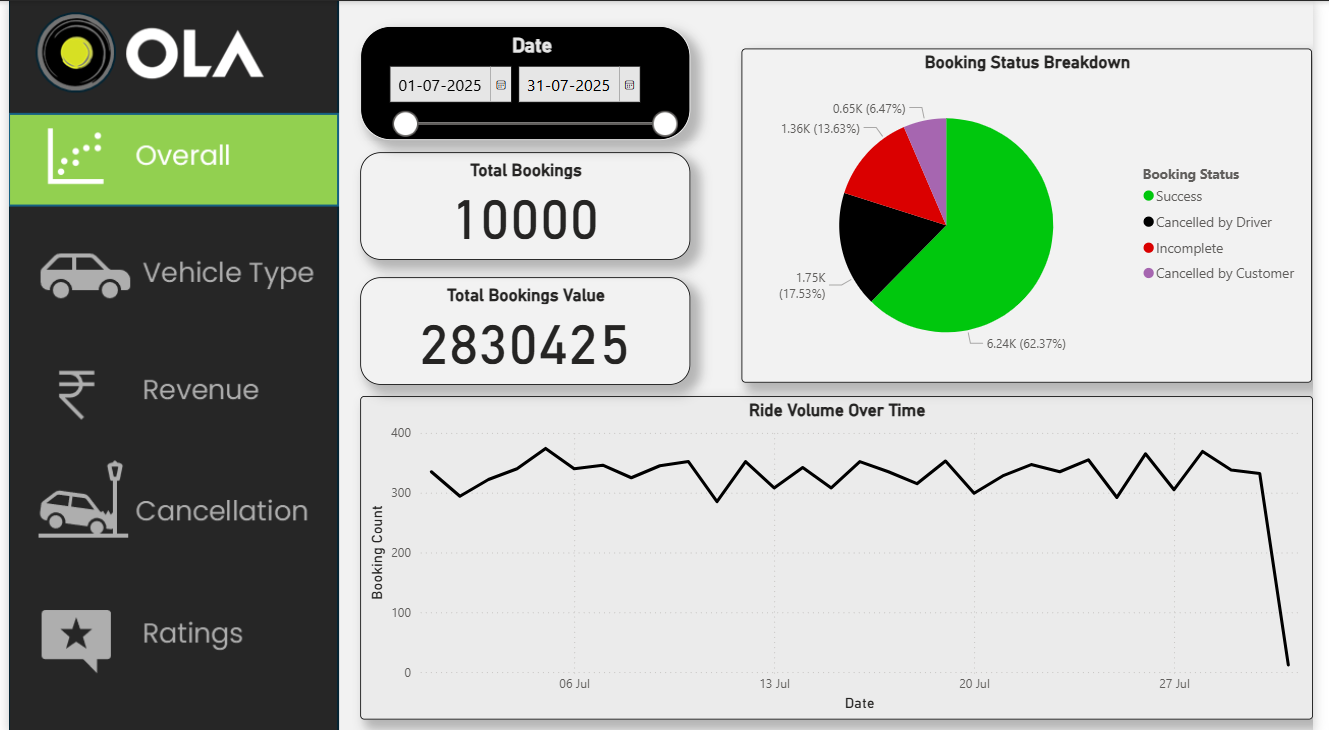

What the dashboard file says about the page in this screenshot:
{"tool":"powerbi","page":{"name":" Overall","canvas":[1280,720],"ordinal":0},"visuals":[{"type":"actionButton","box":[0,222.1,323.9,92],"z":0},{"type":"actionButton","box":[0,222.1,323.9,92],"z":1000},{"type":"actionButton","box":[10,232.1,323.9,92],"z":2000},{"type":"actionButton","box":[0,233.1,323.9,92],"z":3000},{"type":"actionButton","box":[0,347.2,323.9,92],"z":4000},{"type":"actionButton","box":[0,439.3,323.9,106.7],"z":5000},{"type":"actionButton","box":[0,565.6,323.9,106.7],"z":6000},{"type":"lineChart","title":"Ride Volume Over Time","fields":{"Y":["CountNonNull(hyderabad_booking_data.Booking ID)"],"Category":["hyderabad_booking_data.Date"]},"box":[344.8,387.7,935,317.8],"z":7000},{"type":"pieChart","title":"Booking Status Breakdown","fields":{"Category":["hyderabad_booking_data.Booking Status"],"Y":["CountNonNull(hyderabad_booking_data.Booking Status)"]},"box":[719,46.7,559.9,328],"z":8000},{"type":"slicer","title":"Date","fields":{"Values":["hyderabad_booking_data.Date"]},"box":[344.8,24.5,323.9,111.7],"z":9000},{"type":"card","title":"Total Bookings","fields":{"Values":["CountNonNull(hyderabad_booking_data.Booking ID)"]},"box":[344.8,148.5,323.9,105.5],"z":10000},{"type":"card","title":"Total Bookings Value","fields":{"Values":["Sum(hyderabad_booking_data.Booking Value)"]},"box":[344.8,271.2,323.9,105.5],"z":11000}]}

Visuals, with their boxes in screenshot pixels (x1, y1, x2, y2), scaled from the page's 1280x720 canvas onto the 1329x730 screenshot:
actionButton: [left=0, top=225, right=336, bottom=318]
actionButton: [left=0, top=225, right=336, bottom=318]
actionButton: [left=10, top=235, right=347, bottom=329]
actionButton: [left=0, top=236, right=336, bottom=330]
actionButton: [left=0, top=352, right=336, bottom=445]
actionButton: [left=0, top=445, right=336, bottom=554]
actionButton: [left=0, top=573, right=336, bottom=682]
"Ride Volume Over Time" lineChart: [left=358, top=393, right=1328, bottom=715]
"Booking Status Breakdown" pieChart: [left=747, top=47, right=1328, bottom=380]
"Date" slicer: [left=358, top=25, right=694, bottom=138]
"Total Bookings" card: [left=358, top=151, right=694, bottom=258]
"Total Bookings Value" card: [left=358, top=275, right=694, bottom=382]
